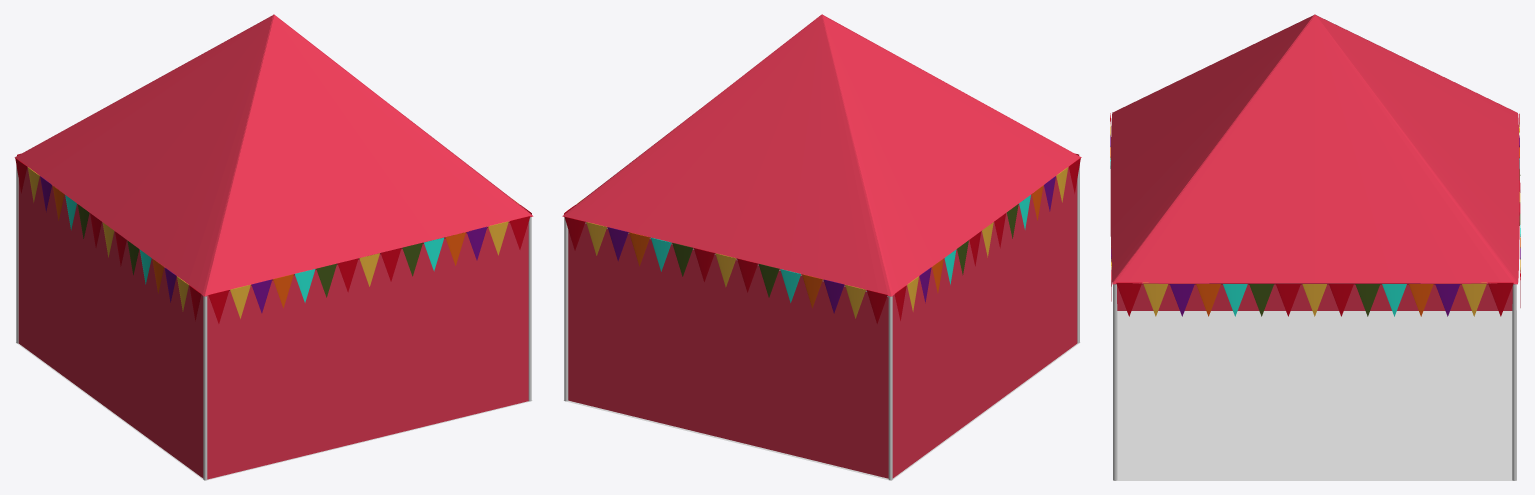
File: tent.fbx
3 views of the same model, side by side, from view 1: azimuth 30°, elevation 25°; view 2: azimuth 150°, elevation 25°; view 3: azimuth 270°, elevation 25° (orthographic). The views are drawn at different scales.
Parts seen in each view (by area): view 1: Plane.002, Cone.002, Cone.001, Plane.003, Cylinder.001, Plane, Cylinder.011; view 2: Plane.005, Cone, Cone.001, Plane.003, Plane, Cylinder.002, Cylinder.003; view 3: Plane, Cone.003, Cone, Cone.002, Plane.001, Plane.003, Cylinder.003, Cylinder.011, Cone.013, Cone.018, Cone.012, Cone.017 (+11 smaller).
Part boxes in pixels (x1,y1,x2,y2): Plane.002: (207, 222, 528, 479); Cone.002: (204, 14, 532, 296); Cone.001: (14, 14, 274, 296); Plane.003: (18, 167, 203, 478); Cylinder.001: (203, 296, 207, 480); Plane: (16, 342, 532, 480); Cylinder.011: (528, 217, 531, 401); Plane.005: (568, 223, 888, 478); Cone: (562, 14, 891, 296); Cone.001: (821, 14, 1081, 296); Plane.003: (892, 167, 1077, 478); Plane: (563, 342, 1080, 480); Cylinder.002: (888, 296, 892, 480); Cylinder.003: (564, 217, 568, 401); Plane: (1113, 310, 1516, 480); Cone.003: (1112, 14, 1517, 284); Cone: (1315, 15, 1519, 283); Cone.002: (1110, 16, 1314, 283); Plane.001: (1117, 284, 1512, 303); Plane.003: (1117, 304, 1512, 310); Cylinder.003: (1512, 284, 1516, 480); Cylinder.011: (1113, 284, 1117, 480); Cone.013: (1116, 282, 1141, 316); Cone.018: (1488, 282, 1513, 316); Cone.012: (1143, 282, 1168, 316); Cone.017: (1462, 282, 1486, 316).
Bounding box in the file's own units: 7493 × 7706 × 7518.
